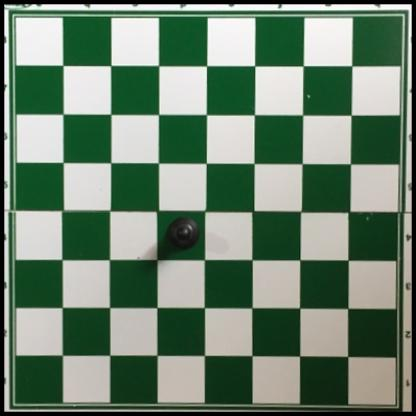black-pawn: (165, 216, 200, 252)
